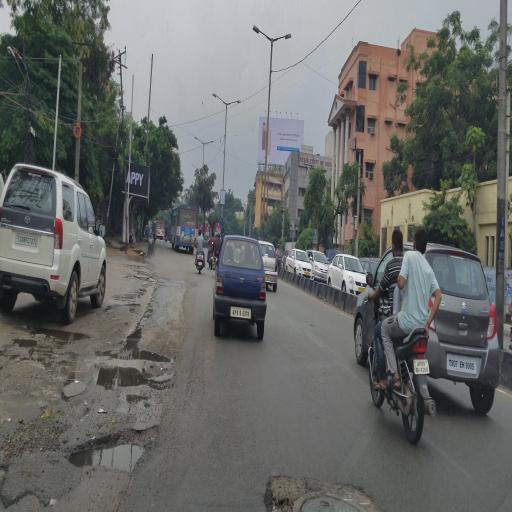street_light_0: (249, 15, 271, 59), (270, 22, 295, 56), (224, 88, 246, 114), (208, 83, 227, 111), (185, 131, 204, 155), (203, 136, 215, 156)
